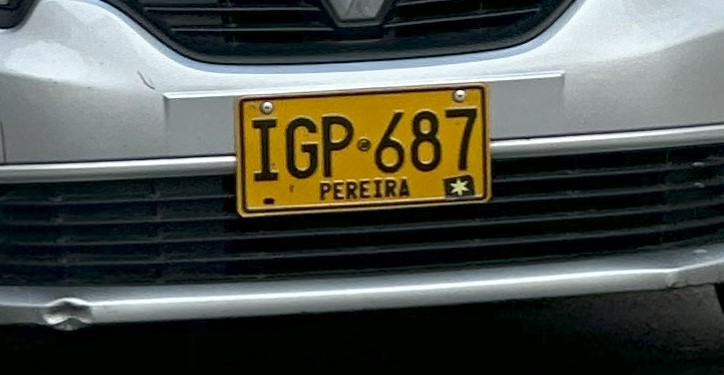number plate: (237, 85, 490, 215)
